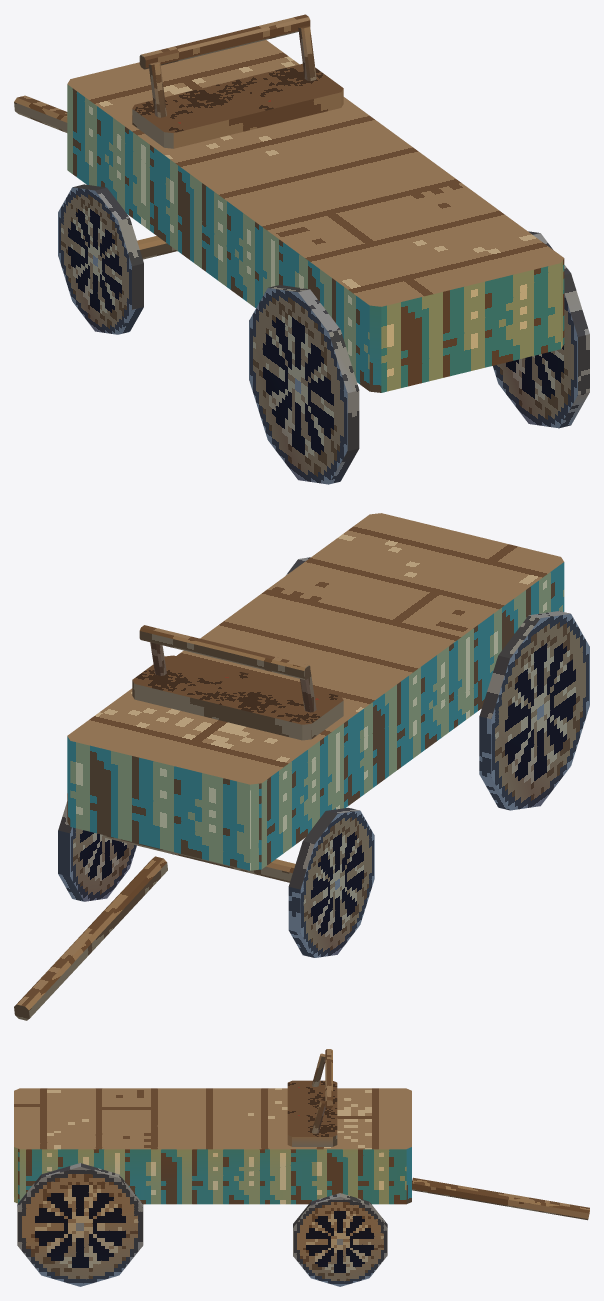
File: wprop.wagon__buckboard.glb
3 views of the same model, one above another, from view 1: azimuth 30°, elevation 25°; view 2: azimuth 150°, elevation 25°; view 3: azimuth 270°, elevation 25° (orthographic). The views are drawn at different scales.
Parts seen in each view (by area): view 1: kit_box, kit_wheels, kit_seat, kit_tongue; view 2: kit_box, kit_wheels, kit_seat, kit_tongue, kit_axles; view 3: kit_box, kit_wheels, kit_seat, kit_tongue.
Part boxes in pixels (box(x1,y1,x2,y2)): kit_box: box(67, 40, 564, 392); kit_wheels: box(58, 184, 589, 484); kit_seat: box(132, 14, 343, 148); kit_tongue: box(14, 95, 67, 132); kit_box: box(67, 513, 564, 870); kit_wheels: box(58, 557, 589, 957); kit_seat: box(132, 625, 343, 740); kit_tongue: box(14, 856, 167, 1020); kit_axles: box(102, 835, 295, 882); kit_box: box(14, 1088, 411, 1204); kit_wheels: box(17, 1163, 387, 1286); kit_seat: box(287, 1049, 337, 1146); kit_tongue: box(412, 1177, 589, 1220).
Size of the model in its own units: 1.62 by 1.74 by 5.21.
Materials: 6 (6 with a texture image).
